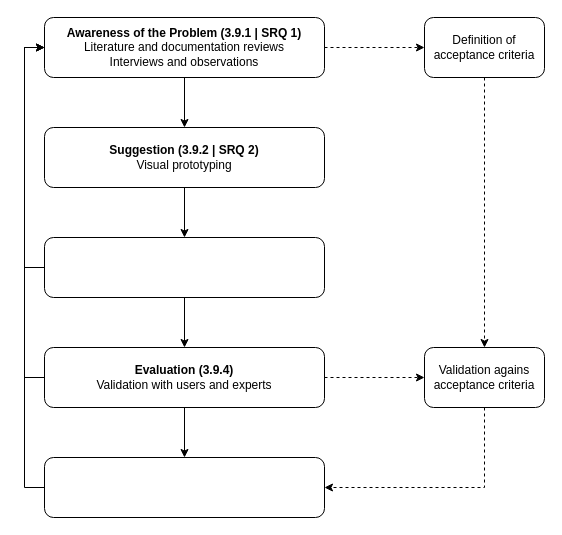
The diagram is 562 pixels wide and 535 high, and some of its shapes have lost their labels. Here are the shapes that lost their labels. From the top down, the centre of each, then its label:
At point 184,267: "Development (3.9.3 | SRQ 3) Implementation of a prototype".
At point 184,487: "Conclusion (3.9.5) Results, recommendations and further research".
